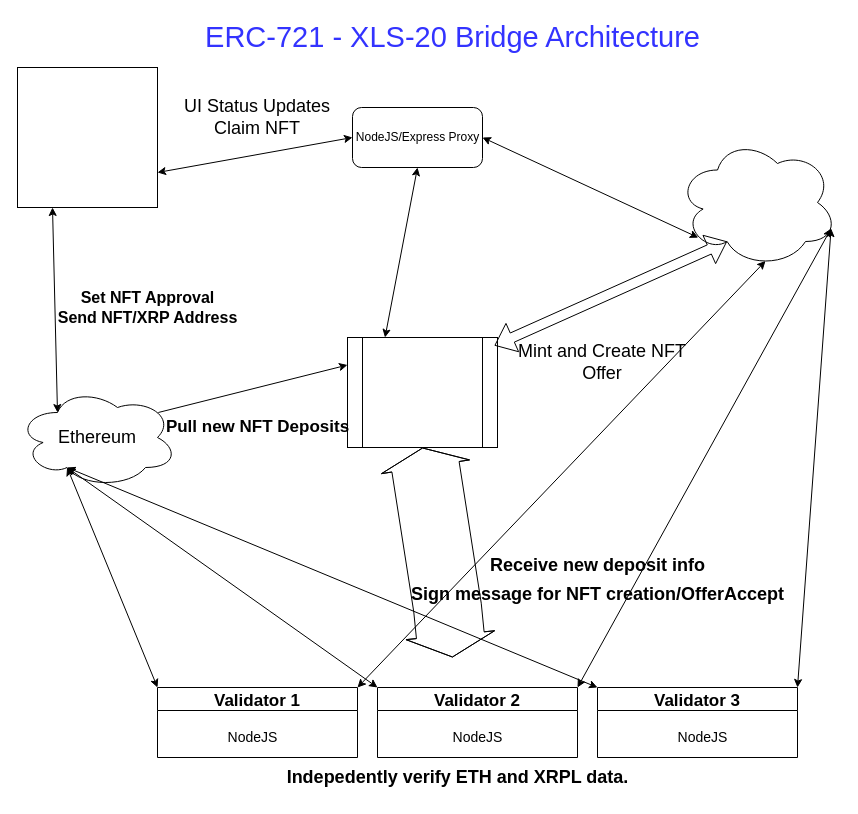
This 858x814 diagram has some shape labels left out. The shapes that lost their labels are listed below. From the top down, each one's box as (x1, y1, x2, y2) in pixels, then its label:
(16, 66, 158, 208): User UI ReactJS app
(676, 136, 838, 268): XRPL
(346, 336, 498, 448): Master Process C#/.NET
